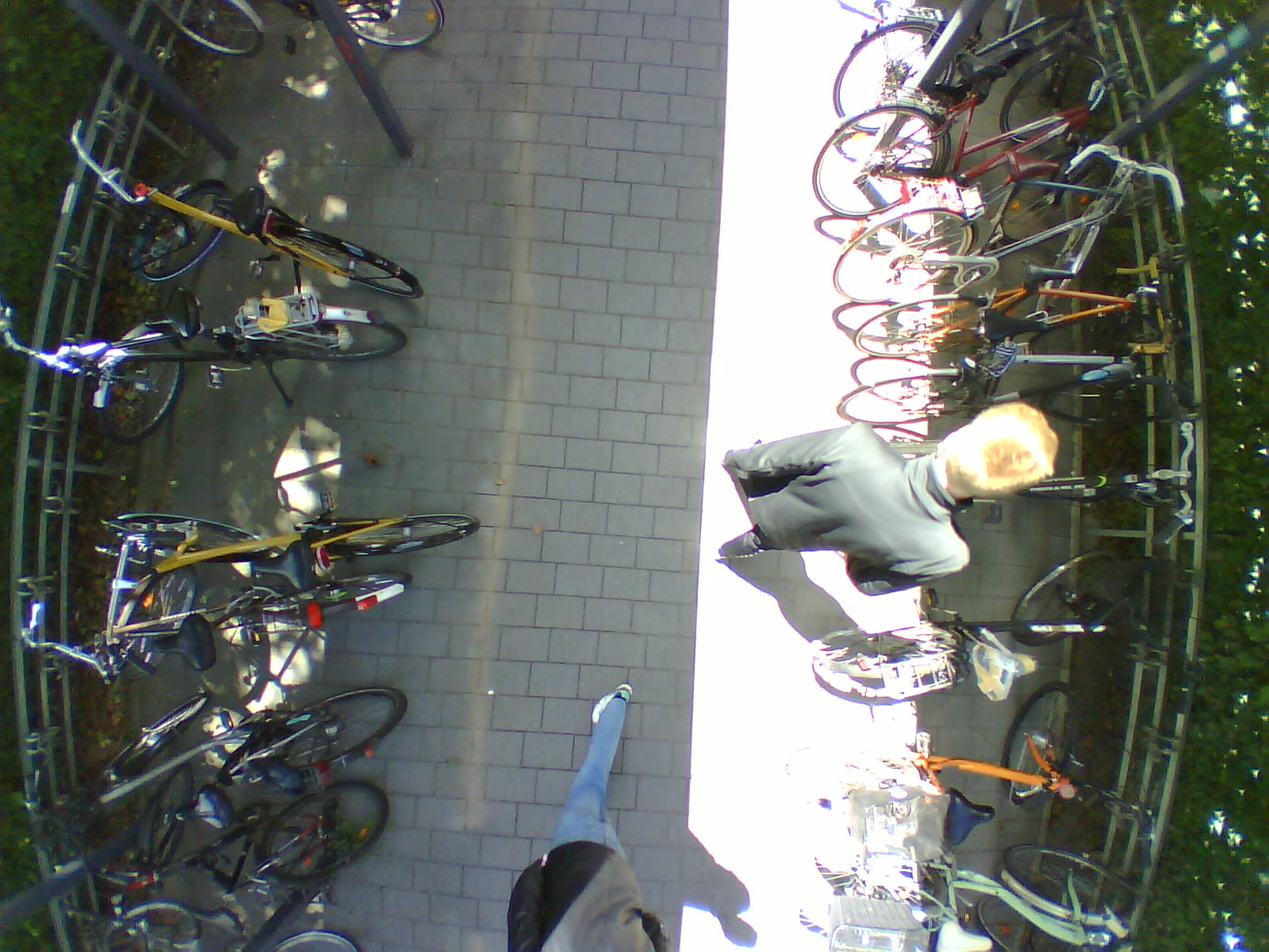bicylce: (91, 689, 408, 916), (86, 490, 482, 658), (807, 40, 1152, 221), (773, 688, 1176, 841), (830, 141, 1190, 309), (803, 548, 1167, 701), (60, 779, 389, 942), (833, 304, 1198, 442), (74, 299, 407, 446), (72, 567, 416, 696), (117, 159, 425, 301), (848, 248, 1187, 367), (830, 0, 1111, 133), (800, 826, 1148, 920), (784, 887, 1135, 952)
saddle: (974, 631, 1037, 702), (148, 608, 217, 670), (937, 776, 996, 848), (134, 281, 203, 340), (247, 541, 320, 595), (970, 309, 1053, 350), (171, 785, 233, 835), (206, 182, 265, 232), (1001, 141, 1061, 186), (952, 38, 1006, 86), (934, 912, 991, 952), (187, 900, 246, 935)
